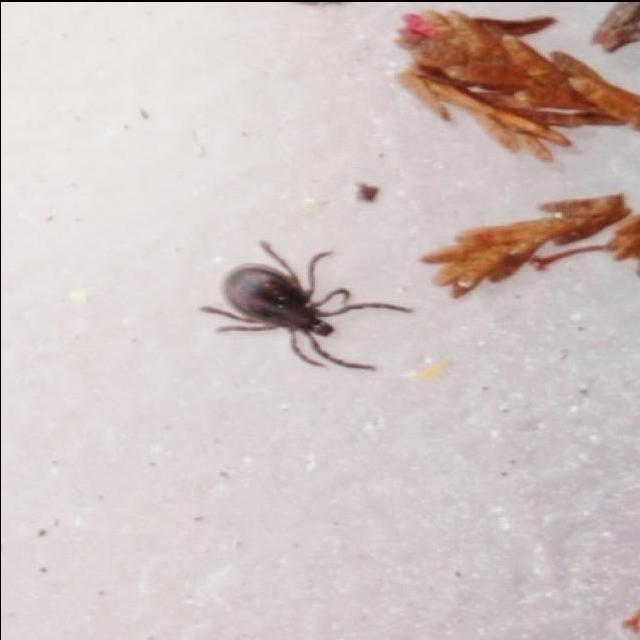Ixodes Ricinus-M: (199, 238, 414, 372)
